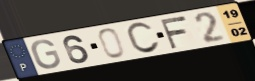0: (96, 27, 129, 61)
2: (193, 11, 228, 45)
6: (62, 34, 91, 65)
C: (125, 21, 162, 56)
F: (158, 14, 189, 50)
G: (30, 39, 63, 70)
